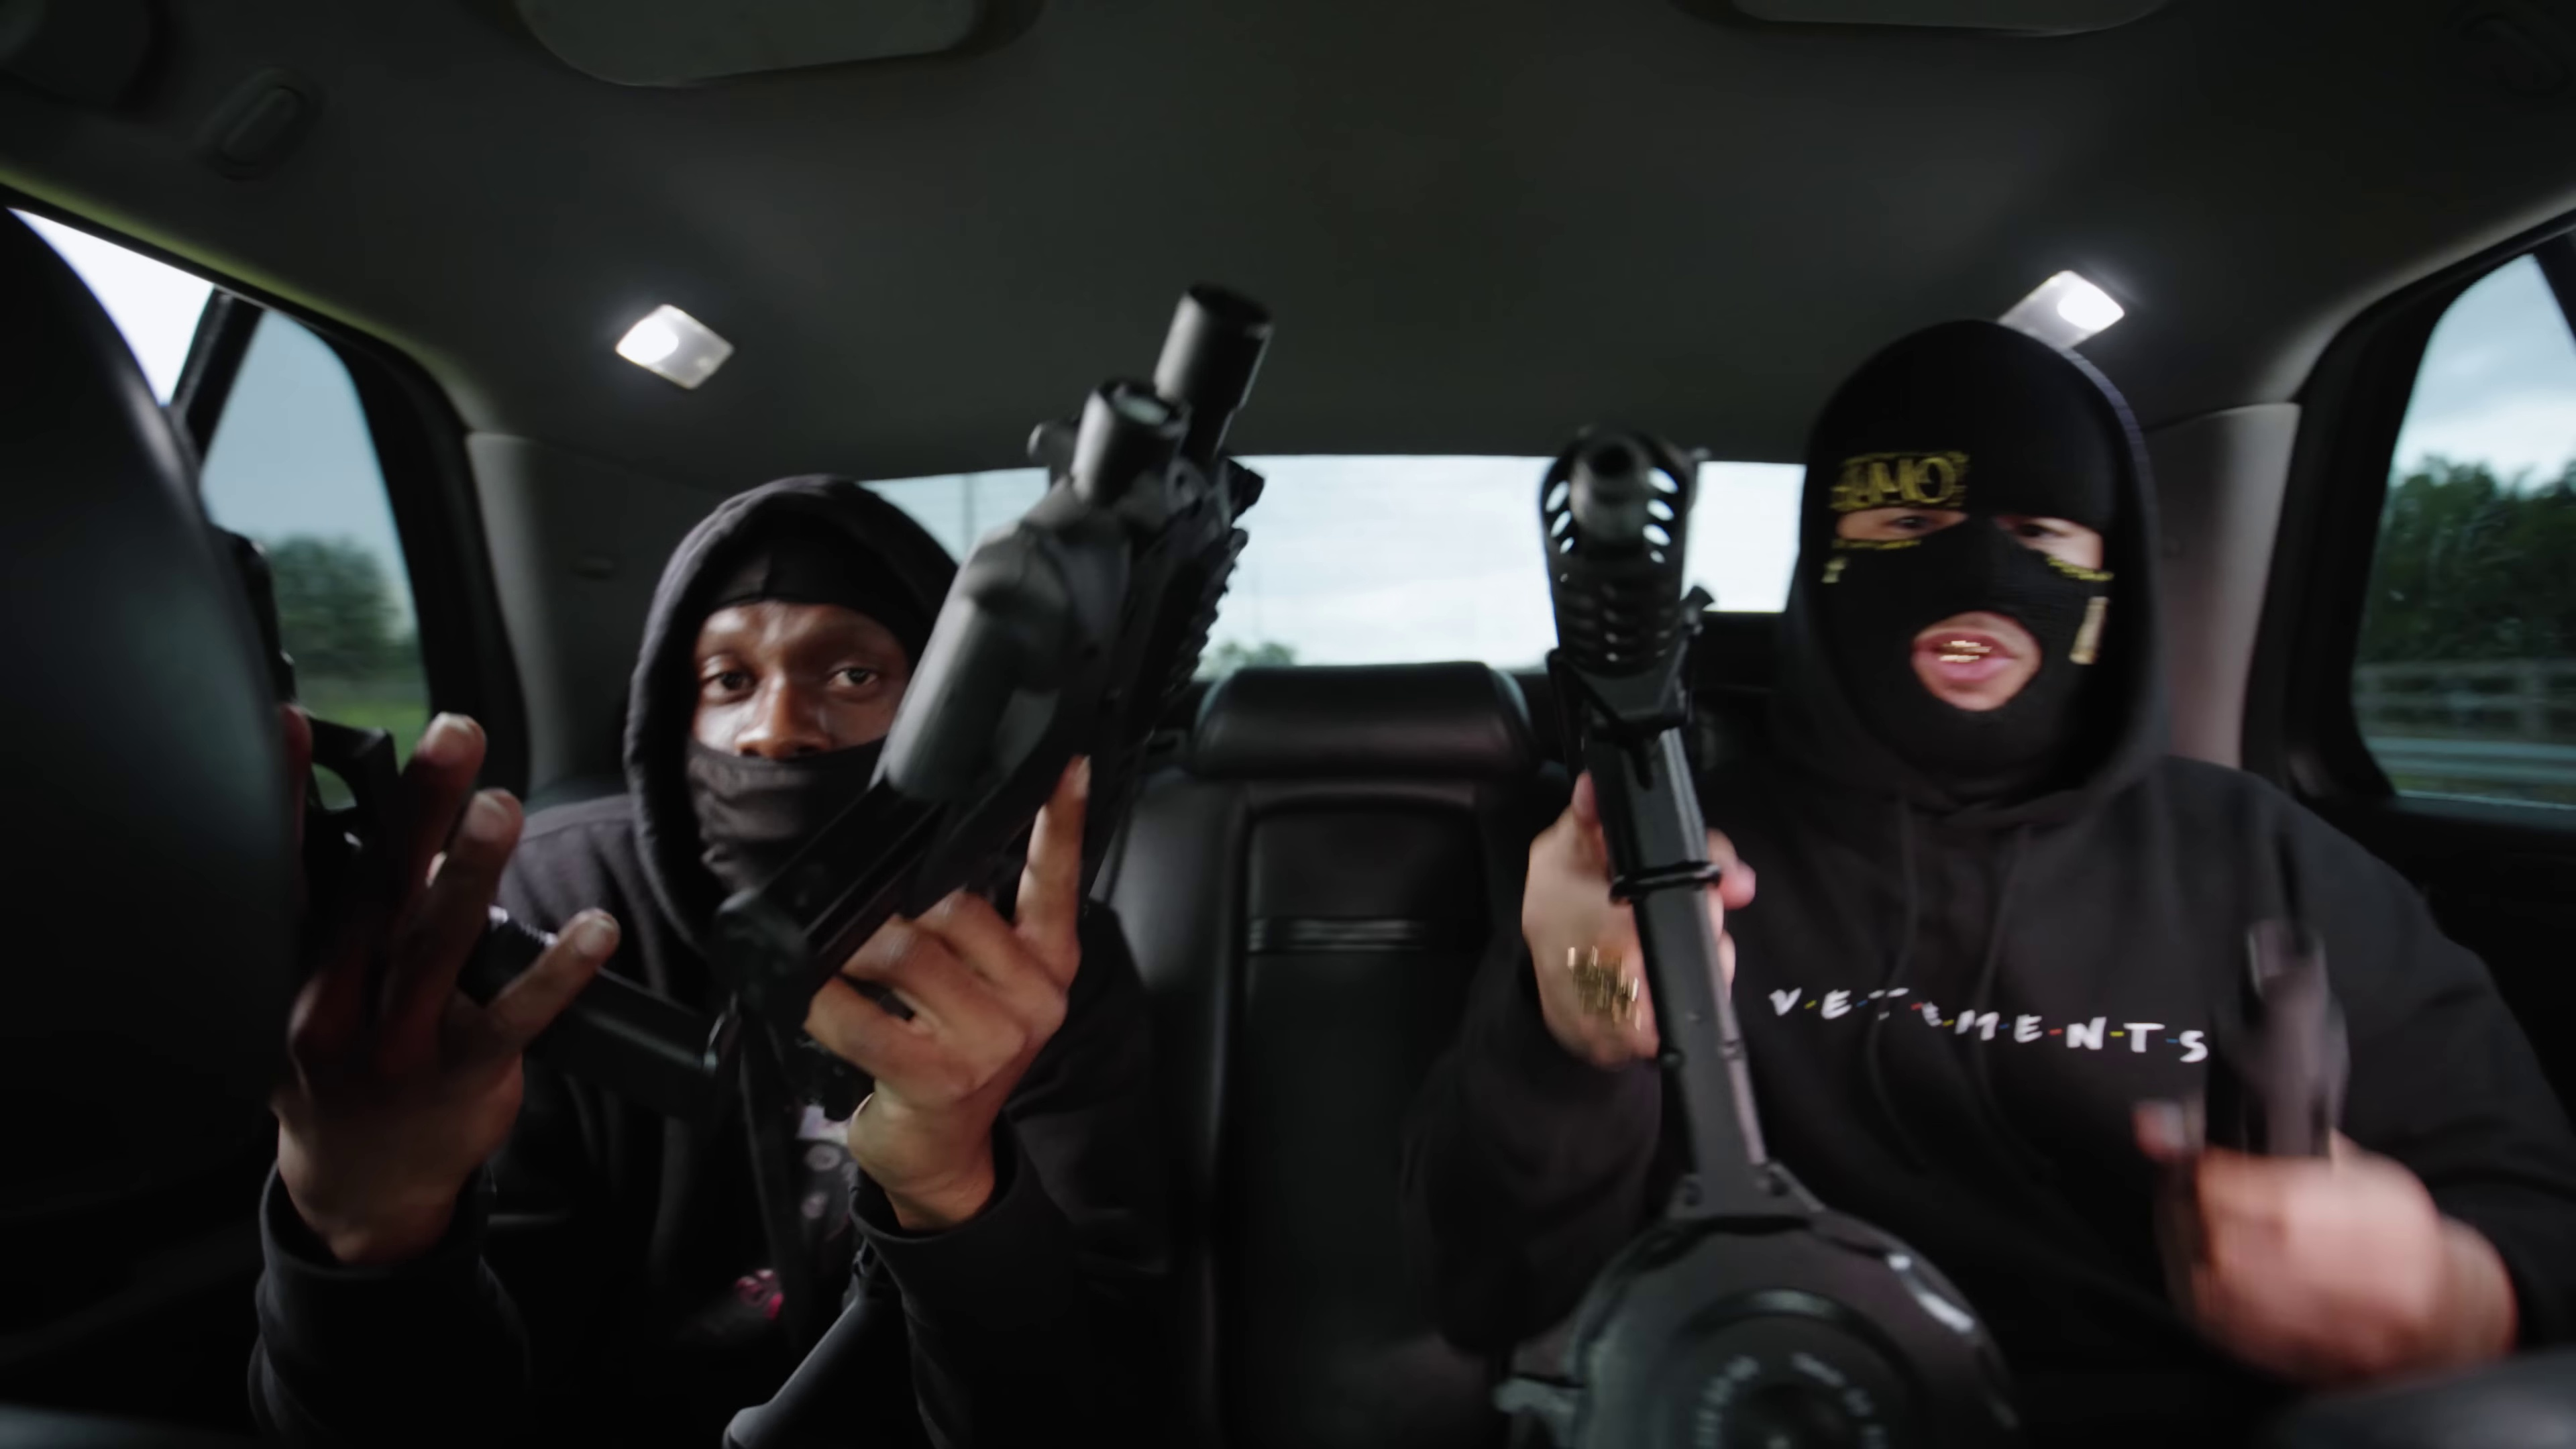gun: (732, 278, 1283, 1166), (1504, 410, 1836, 1258)
p_w_gun: (1389, 308, 2576, 1449), (241, 274, 1284, 1449)
